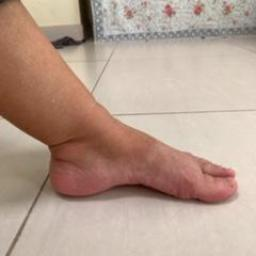Medial View -Left Foot-: (17, 79, 248, 226)
